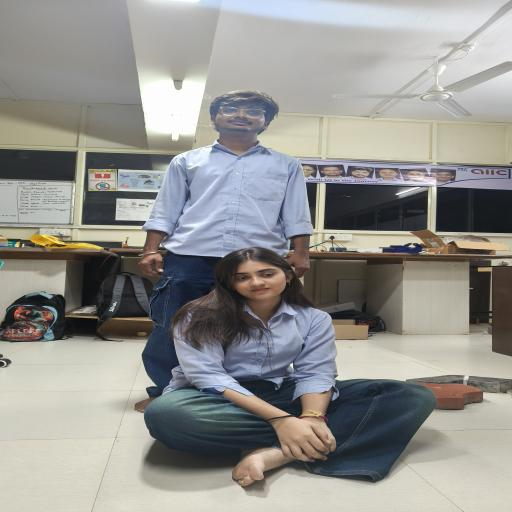survivor: (144, 247, 438, 487), (134, 90, 314, 412)
